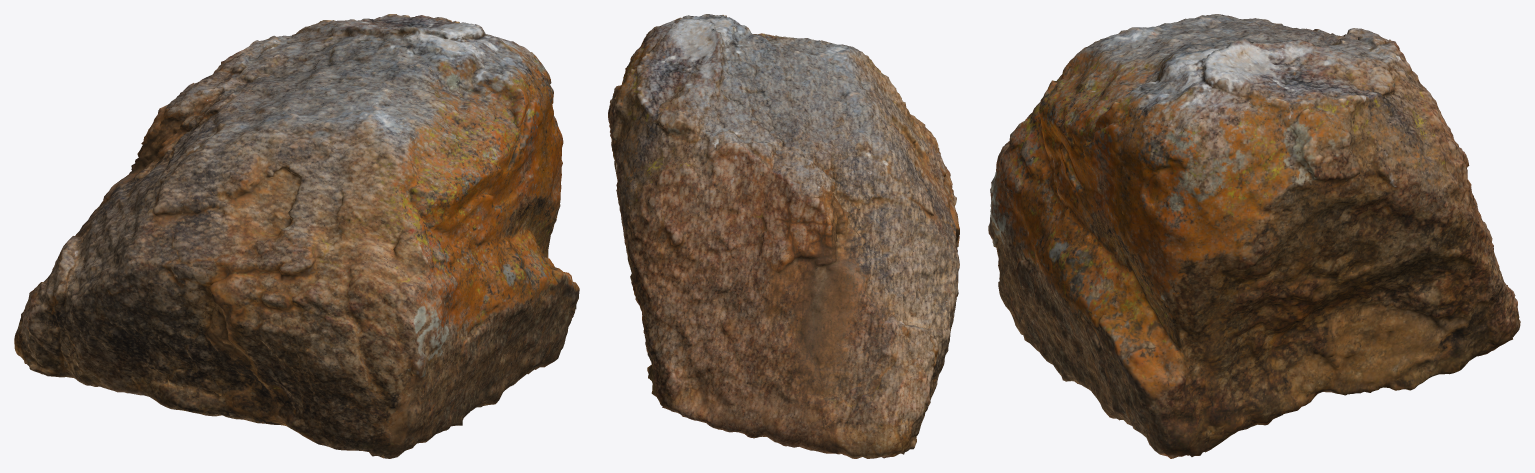
Rendered from namaqualand_boulder_04_2k.gltf.
3 renders of one model, left to right at view 1: azimuth 30°, elevation 25°; view 2: azimuth 150°, elevation 25°; view 3: azimuth 270°, elevation 25°, orthographic. The views are drawn at different scales.
Visible parts, largest first — view 1: boulder_04; view 2: boulder_04; view 3: boulder_04.
Part boxes in pixels (x1,y1,x2,y2): boulder_04: (14,14,579,458); boulder_04: (608,14,959,458); boulder_04: (988,14,1520,458).
Size of the model in its own units: 2.52 by 1.9 by 2.5.
Materials: 1 (1 with a texture image).
